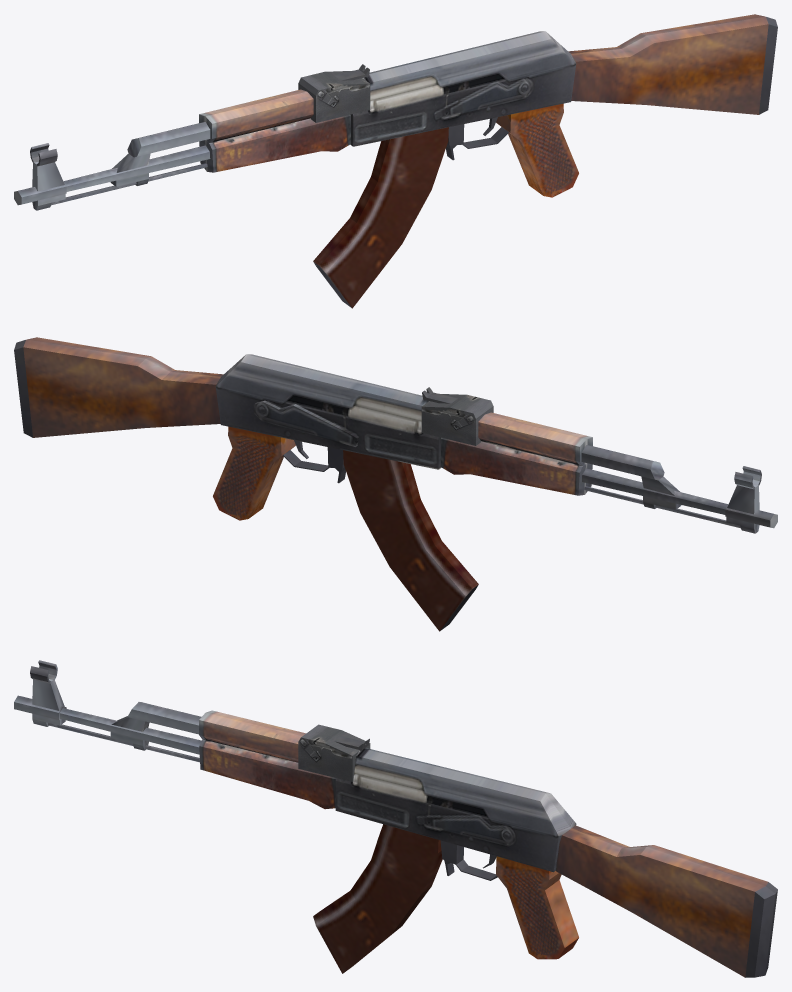
3 views of the same model, one above another, from view 1: azimuth 30°, elevation 25°; view 2: azimuth 150°, elevation 25°; view 3: azimuth 330°, elevation 25° (orthographic).
Visible parts, largest first — view 1: GUN_Material_0; view 2: GUN_Material_0; view 3: GUN_Material_0.
Part boxes in pixels (x1,y1,x2,y2): GUN_Material_0: [14, 14, 777, 308]; GUN_Material_0: [14, 337, 777, 631]; GUN_Material_0: [14, 660, 777, 977].
Bounding box in the file's own units: 29.26 × 8.62 × 1.31.
1 material, 1 textured.
